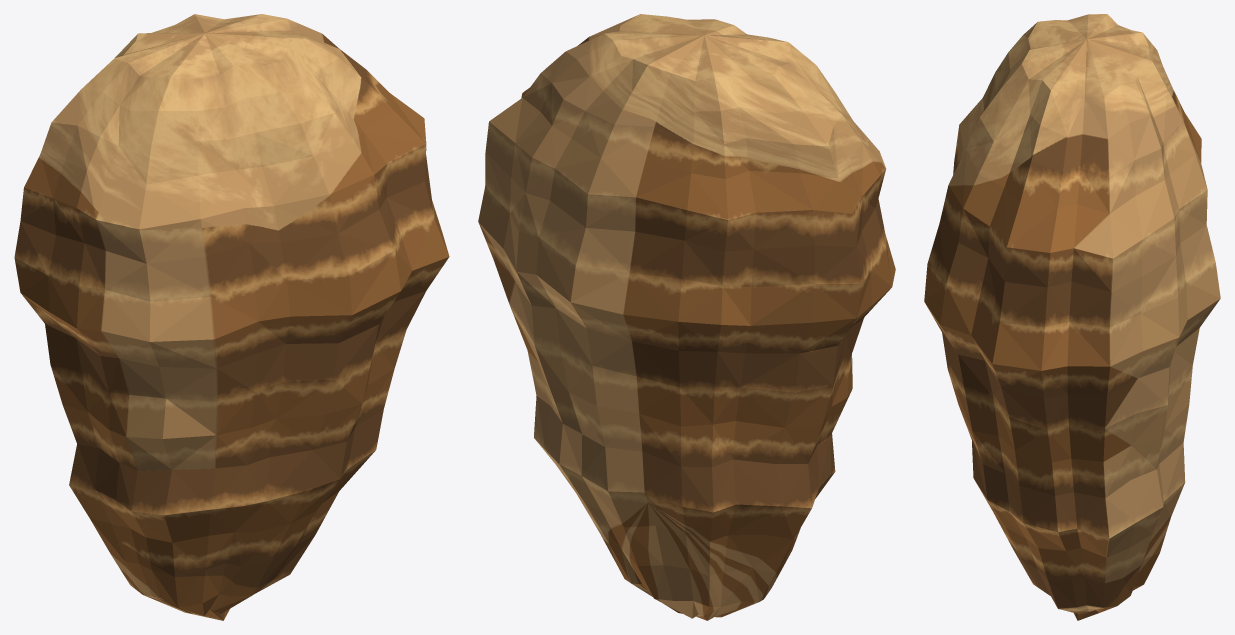
File: sandstone-shard.glb
The picture shows the model from 3 angles, left to right: view 1: azimuth 30°, elevation 25°; view 2: azimuth 150°, elevation 25°; view 3: azimuth 270°, elevation 25°; orthographic projection. The views are drawn at different scales.
Visible parts, largest first — view 1: SandstoneShard; view 2: SandstoneShard; view 3: SandstoneShard.
Part boxes in pixels (left/top/right/bottom): SandstoneShard: left=14, top=14, right=449, bottom=620; SandstoneShard: left=478, top=14, right=895, bottom=620; SandstoneShard: left=924, top=14, right=1220, bottom=620.
Bounding box in the file's own units: 1.41 × 2.04 × 0.9533.
Materials: 1 (1 with a texture image).
